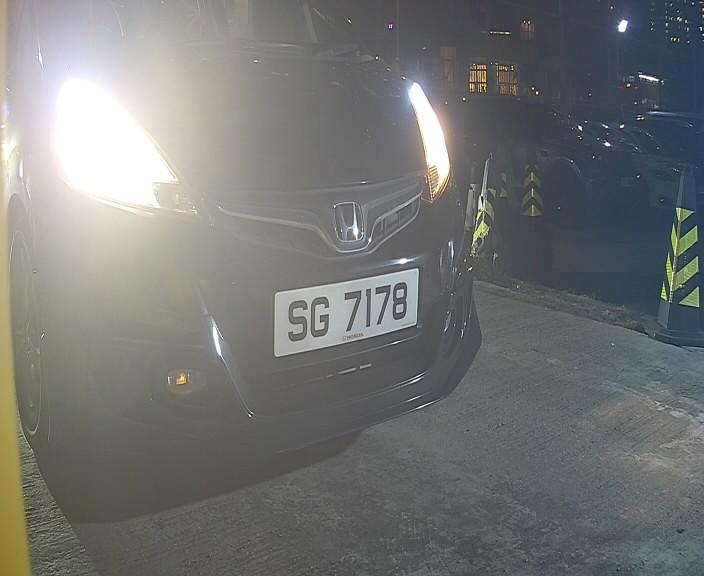License Plate: (258, 268, 428, 358)
